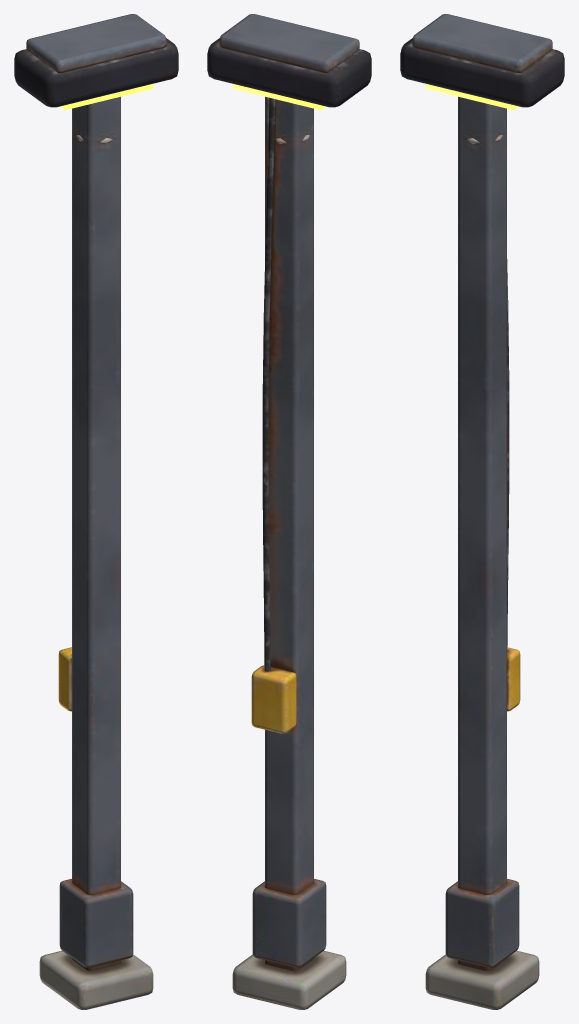
Rendered from lamp_post.glb.
The picture shows the model from 3 angles, left to right: view 1: azimuth 30°, elevation 25°; view 2: azimuth 150°, elevation 25°; view 3: azimuth 330°, elevation 25°; orthographic projection.
Parts seen in each view (by area): view 1: body, glow_lamp; view 2: body, glow_lamp; view 3: body, glow_lamp.
Part boxes in pixels (x1,y1,x2,y2): body: (14, 14, 178, 1009); glow_lamp: (60, 84, 153, 110); body: (207, 14, 371, 1009); glow_lamp: (232, 84, 325, 110); body: (400, 14, 564, 1009); glow_lamp: (425, 84, 518, 110).
Bounding box in the file's own units: 0.6 × 4.12 × 0.34.
Materials: 2 (1 with a texture image).
